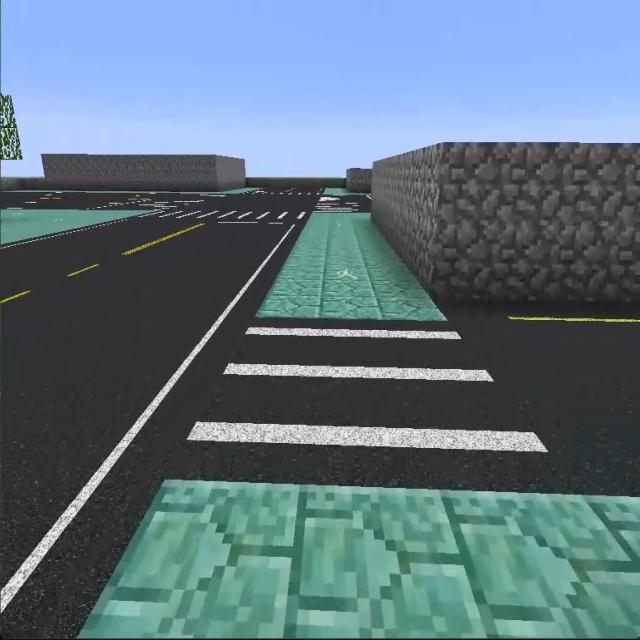crosswalk: (164, 324, 587, 485), (143, 204, 309, 225), (86, 192, 230, 211), (311, 194, 371, 212), (237, 191, 323, 198)
road: (6, 220, 298, 628), (458, 303, 638, 482), (0, 192, 133, 209), (189, 195, 318, 211)
sidewalk: (257, 209, 446, 322), (0, 207, 150, 244), (2, 188, 200, 195), (203, 187, 252, 194), (323, 187, 366, 194)
